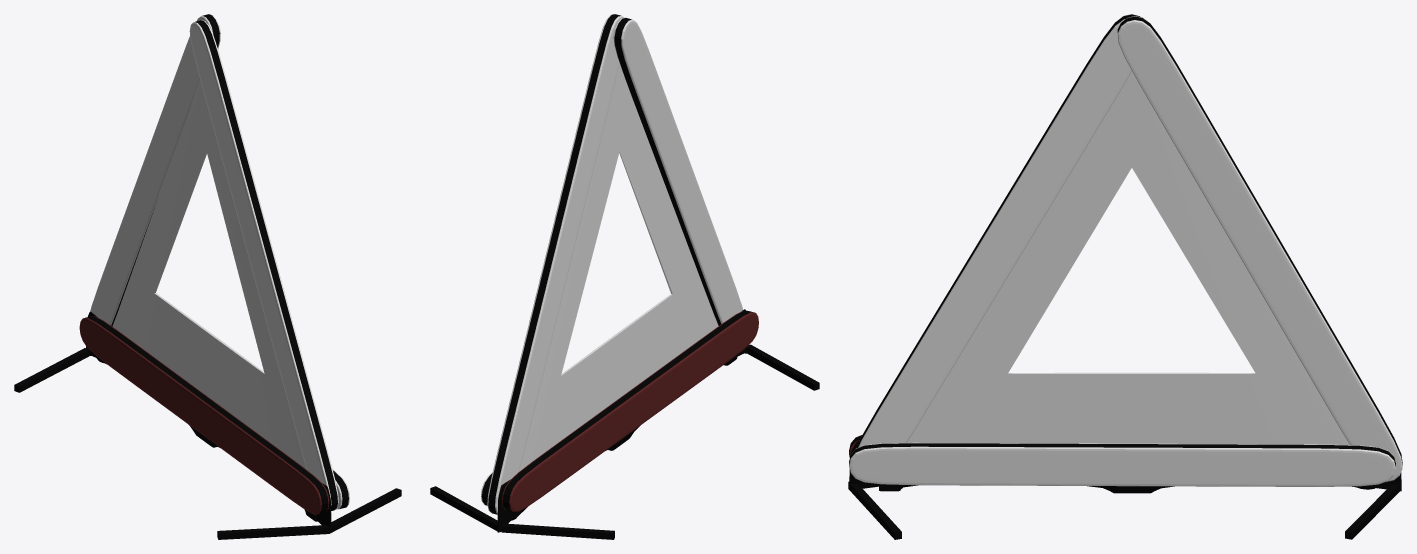
The model's file is GevarenDriehoek2.fbx.
3 views of the same model, side by side, from view 1: azimuth 30°, elevation 25°; view 2: azimuth 150°, elevation 25°; view 3: azimuth 270°, elevation 25° (orthographic). The views are drawn at different scales.
Visible parts, largest first — view 1: reflective middenstuk, balk links, balk onder, Cube.004, Cube.001, Cube.003, Cube; view 2: reflective middenstuk, Cube.004, balk onder, balk links, Cube.003, Cube.001, Cube.002; view 3: reflective middenstuk, balk onder.001, Cube.004, balk links, Cube.002, Cube, onderstuk.
Part boxes in pixels (left/top/right/bottom): reflective middenstuk: left=112, top=79, right=306, bottom=469; balk links: left=189, top=20, right=338, bottom=511; balk onder: left=79, top=316, right=329, bottom=514; Cube.004: left=90, top=14, right=220, bottom=326; Cube.001: left=217, top=525, right=329, bottom=539; Cube.003: left=14, top=348, right=90, bottom=392; Cube: left=331, top=488, right=401, bottom=532; reflective middenstuk: left=519, top=63, right=718, bottom=471; Cube.004: left=487, top=14, right=623, bottom=514; balk onder: left=502, top=310, right=758, bottom=511; balk links: left=613, top=17, right=742, bottom=325; Cube.003: left=501, top=523, right=614, bottom=539; Cube.001: left=747, top=344, right=819, bottom=390; Cube.002: left=430, top=486, right=501, bottom=531; reflective middenstuk: left=907, top=71, right=1349, bottom=444; balk onder.001: left=849, top=442, right=1395, bottom=486; Cube.004: left=1117, top=16, right=1402, bottom=482; balk links: left=856, top=14, right=1140, bottom=448; Cube.002: left=1345, top=484, right=1399, bottom=539; Cube: left=849, top=483, right=901, bottom=539; onderstuk: left=879, top=484, right=1377, bottom=493.
Size of the model in its own units: 26.72 by 59.13 by 62.49.
